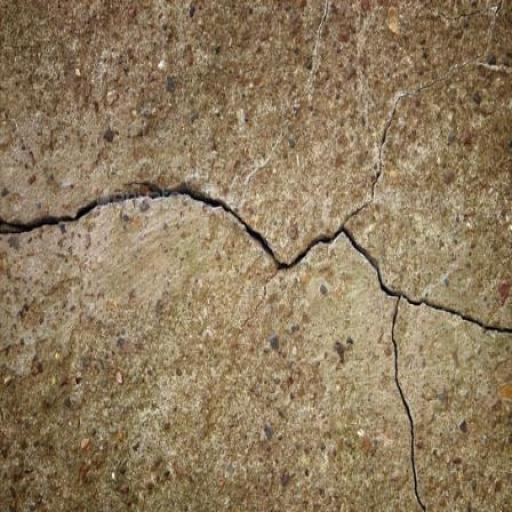spalling: (5, 178, 512, 512)
